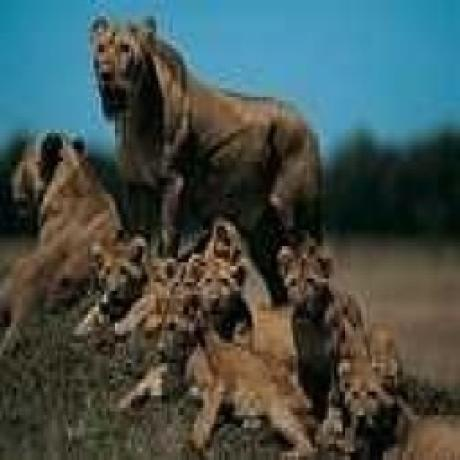Lion: (90, 9, 330, 258), (147, 296, 320, 452), (0, 124, 122, 311), (280, 242, 378, 377), (334, 357, 460, 460), (88, 229, 160, 328), (192, 246, 252, 350)
